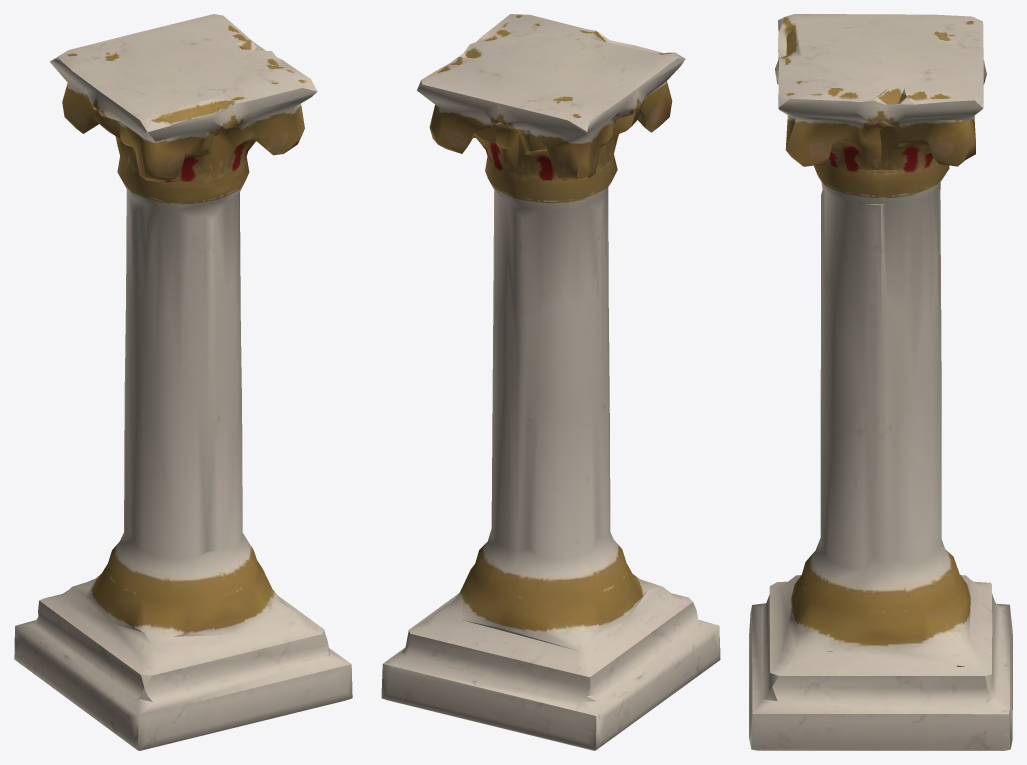
Rendered from town_column_lod.glb.
3 views of the same model, side by side, from view 1: azimuth 30°, elevation 25°; view 2: azimuth 150°, elevation 25°; view 3: azimuth 270°, elevation 25° (orthographic). The views are drawn at different scales.
Parts seen in each view (by area): view 1: town_column; view 2: town_column; view 3: town_column.
Part boxes in pixels (<box>): town_column: <box>14,14,352,750</box>; town_column: <box>381,14,720,750</box>; town_column: <box>749,14,1012,750</box>.
Bounding box in the file's own units: 1.92 × 5.2 × 1.93.
Materials: 1 (1 with a texture image).
